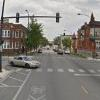Crosswalk: (40, 64, 93, 76)
